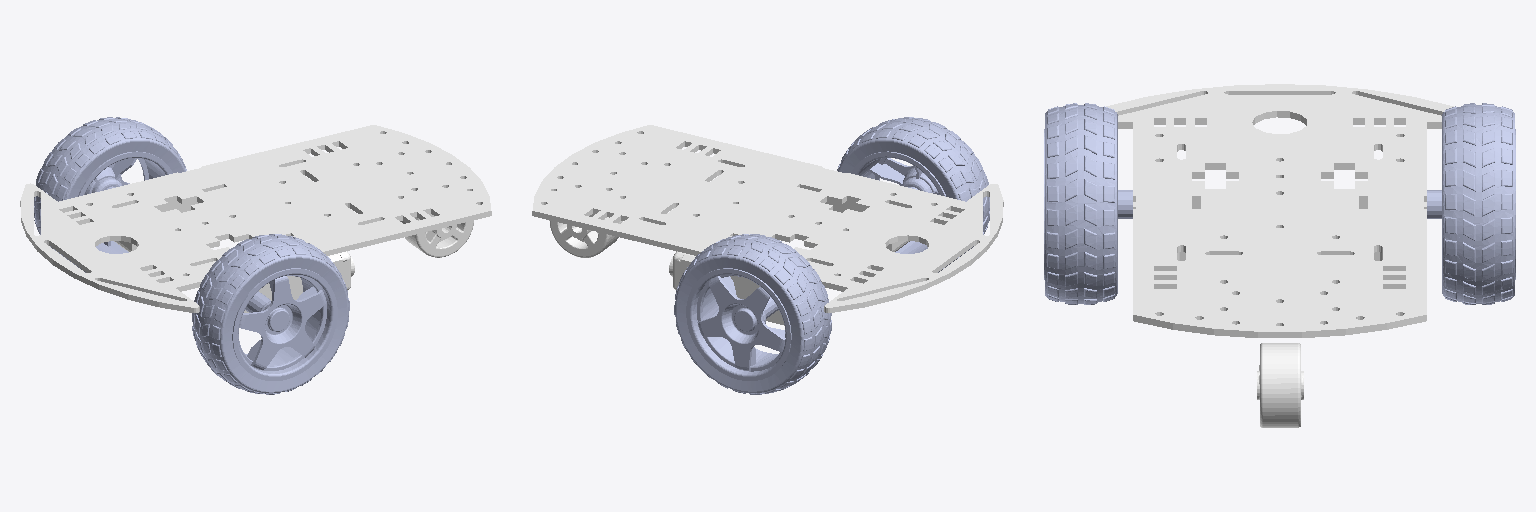
URDF robot description (mobile_robot):
<?xml version="1.0" encoding="utf-8"?>
<!-- This URDF was automatically created by SolidWorks to URDF Exporter! Originally created by [author] ([email redacted]) 
     Commit Version: 1.5.1-0-g916b5db  Build Version: 1.5.7152.31018
     For more information, please see http://wiki.ros.org/sw_urdf_exporter -->
<!--robot
  name="Seguidor_linea_robot"-->
<robot xmlns:xacro="http://www.ros.org/wiki/xacro" name="mobile_robot">
  
  <!--link name="odom_link"/>
  <joint name="odom_joint" type="fixed">
    <parent link="odom_link" />
    <child link = "base_link" />
    <origin xyz="0.0 0.0 0.0" rpy="0.0 0.0 0.0" />
  </joint-->

  <link
    name="base_link">
    <inertial>
      <origin
        xyz="0.010085 -7.8763E-06 -0.0066048"
        rpy="0 0 0" />
      <mass value="0.12" />
      <inertia
        ixx="0.0001"
        ixy="0"
        ixz="0"
        iyy="0.0003"
        iyz="0"
        izz="0.0002" />
    </inertial>
    <visual>
      <origin
        xyz="0 0 0"
        rpy="0 0 0" />
      <geometry>
        <mesh
          filename="package://modelo_robot/meshes/base_link.STL" />
      </geometry>
      <material
        name="">
        <color
          rgba="1 1 1 0.3" />
      </material>
    </visual>
    <collision>
      <origin
        xyz="0 0 0"
        rpy="0 0 0" />
      <geometry>
        <mesh
          filename="package://modelo_robot/meshes/base_link.STL" />
      </geometry>
    </collision>
  </link>

  <!--link name="world"/>
  <joint name="world_joint" type="fixed">
    <parent link="world" />
    <child link = "base_link" />
    <origin xyz="0.0 0.0 0.0" rpy="0.0 0.0 0.0" />
    package://modelo_robot/meshes/base_link.stl
  </joint-->

  <gazebo reference="base_link">
    <mu1>200</mu1>
    <mu2>200</mu2>
    <kp>1000000</kp>
    <kd>1</kd>
    <material>Gazebo/Yellow</material>
  </gazebo>

  <link
    name="Rueda_izquierda_link">
    <inertial>
      <origin
        xyz="8.9146E-10 -3.2512E-08 -0.011873"
        rpy="0 0 0" />
      <mass value="0.1403" />
      <inertia
        ixx="0.00002"
        ixy="0"
        ixz="0"
        iyy="0.00002"
        iyz="0"
        izz="0.0001" />
    </inertial>
    <visual>
      <origin
        xyz="0 0 0"
        rpy="0 0 0" />
      <geometry>
        <mesh
          filename="package://modelo_robot/meshes/Rueda_izquierda_link.STL" />
      </geometry>
      <material
        name="">
        <color
          rgba="0.79216 0.81961 0.93333 1" />
      </material>
    </visual>
    <collision>
      <origin
        xyz="0 0 0"
        rpy="0 0 0" />
      <geometry>
        <mesh
          filename="package://modelo_robot/meshes/Rueda_izquierda_link.STL" />
      </geometry>
    </collision>
  </link>
  <joint
    name="Rueda_izquierda_joint"
    type="continuous">
    <origin
      xyz="-0.033259 0.08025 -0.01375"
      rpy="-1.5708 0.042481 0" />
    <parent
      link="base_link" />
    <child
      link="Rueda_izquierda_link" />
    <axis
      xyz="0 0 1" />
    <dynamics
      damping="0.1"
      friction="0.1" />
  </joint>

 <gazebo reference="Rueda_izquierda_link">
    <mu1>200</mu1>
    <mu2>200</mu2>
    <kp>1000000</kp>
    <kd>1</kd>
    <material>Gazebo/Gray</material>
  </gazebo>


  <link
    name="Rueda_derecha_link">
    <inertial>
      <origin
        xyz="-8.9146E-10 -3.2512E-08 0.011873"
        rpy="0 0 0" />
      <mass value="0.1403" />
      <inertia
        ixx="0.00002"
        ixy="0"
        ixz="0"
        iyy="0.00002"
        iyz="0"
        izz="0.0001" />
    </inertial>
    <visual>
      <origin
        xyz="0 0 0"
        rpy="0 0 0" />
      <geometry>
        <mesh
          filename="package://modelo_robot/meshes/Rueda_derecha_link.STL" />
      </geometry>
      <material
        name="">
        <color
          rgba="0.79216 0.81961 0.93333 1" />
      </material>
    </visual>
    <collision>
      <origin
        xyz="0 0 0"
        rpy="0 0 0" />
      <geometry>
        <mesh
          filename="package://modelo_robot/meshes/Rueda_derecha_link.STL" />
      </geometry>
    </collision>
  </link>

  <gazebo reference="Rueda_derecha_link">
    <mu1>200</mu1>
    <mu2>200</mu2>
    <kp>1000000</kp>
    <kd>1</kd>
    <material>Gazebo/Gray</material>
  </gazebo>

  <joint
    name="Rueda_derecha_joint"
    type="continuous">
    <origin
      xyz="-0.033259 -0.08025 -0.01375"
      rpy="1.5708 0.042481 -3.1416" />
    <parent
      link="base_link" />
    <child
      link="Rueda_derecha_link" />
    <axis
      xyz="0 0 1" />
    <dynamics
      damping="0.1"
      friction="0.1" />
  </joint>

  <link
    name="Base_castor_link">
    <inertial>
      <origin
        xyz="0 0 0"
        rpy="0 0 0" />
      <mass
        value="0.5" />
      <inertia
        ixx="0.00004"
        ixy="0"
        ixz="0"
        iyy="0.00004"
        iyz="0"
        izz="0.00001" />
    </inertial>
    <visual>
      <origin
        xyz="0 0 0"
        rpy="0 0 0" />
      <geometry>
        <mesh
          filename="package://modelo_robot/meshes/Base_castor_link.STL" />
      </geometry>
      <material
        name="">
        <color
          rgba="1 1 1 1" />
      </material>
    </visual>
    <collision>
      <origin
        xyz="0 0 0"
        rpy="0 0 0" />
      <geometry>
        <mesh
          filename="package://modelo_robot/meshes/Base_castor_link.STL" />
      </geometry>
    </collision>
    
  </link>

  <gazebo reference="Base_castor_link">
    <mu1>0.1</mu1>
    <mu2>0.1</mu2>
    <kp>1000000</kp>
    <kd>1</kd>
    <material>Gazebo/Gray</material>
  </gazebo>

  <joint
    name="Base_castor_joint"
    type="continuous">
    <origin
      xyz="0.072581 0 -0.0025"
      rpy="-3.1408 0 0" />
    <parent
      link="base_link" />
    <child
      link="Base_castor_link" />
    <axis
      xyz="0 0 1" />
  </joint>
  <link
    name="Rueda_castor_link">
    <inertial>
      <origin
        xyz="6.93889390390723E-18 -2.62037475051713E-11 -2.77710070911708E-09"
        rpy="0 0 0" />
      <mass
        value="0.0828739992319076" />
      <inertia
        ixx="0.0004"
        ixy="0"
        ixz="0"
        iyy="0.0004"
        iyz="0"
        izz="0.00001" />
    </inertial>
    <visual>
      <origin
        xyz="0 0 0"
        rpy="0 0 0" />
      <geometry>
        <mesh
          filename="package://modelo_robot/meshes/Rueda_castor_link.STL" />
      </geometry>
      <material
        name="">
        <color
          rgba="1 1 1 1" />
      </material>
    </visual>
    <collision>
      <origin
        xyz="0 0 0"
        rpy="0 0 0" />
      <geometry>
        <mesh
          filename="package://modelo_robot/meshes/Rueda_castor_link.STL" />
      </geometry>
    </collision>
  </link>

  <gazebo reference="Rueda_castor_link">
    <mu1>0.1</mu1>
    <mu2>0.1</mu2>
    <kp>1000000</kp>
    <kd>1</kd>
    <material>Gazebo/Gray</material>
  </gazebo>

  <joint
    name="Rueda_castor_joint"
    type="continuous">
    <origin
      xyz="0.015014 -0.00012272 0.02296"
      rpy="0 -1.57 1.5708" />
    <parent
      link="Base_castor_link" />
    <child
      link="Rueda_castor_link" />
    <axis
      xyz="0 0 1" />
  </joint>

  <gazebo>
    <plugin name="two_wheeled_robot_diff_drive" filename="libgazebo_ros_diff_drive.so">
 
      <update_rate>100</update_rate>
      
      <!-- wheels -->
      <left_joint>Rueda_izquierda_joint</left_joint>
      <right_joint>Rueda_derecha_joint</right_joint>
 
      <!-- kinematics -->
      <wheel_separation>0.15</wheel_separation>
      <wheel_diameter>0.06</wheel_diameter>
 
      <!-- limits -->
      <max_wheel_torque>20</max_wheel_torque>
      <max_wheel_acceleration>20.0</max_wheel_acceleration>
 
      <!-- Receive velocity commands on this ROS topic -->
      <command_topic>cmd_vel</command_topic>
 
      <!-- output -->
      <!-- When false, publish no wheel odometry data to a ROS topic -->
      <publish_odom>true</publish_odom>
 
      <!-- When true, publish coordinate transform from odom to base_footprint -->
      <!-- I usually use the robot_localization package to publish this transform -->  
      <publish_odom_tf>true</publish_odom_tf>
     
      <!-- When true, publish coordinate transform from base_link to the wheels -->
      <!-- The robot_state_publisher package is often used to publish this transform -->  
      <publish_wheel_tf>true</publish_wheel_tf>
 
      <odometry_topic>odom</odometry_topic>
      <odometry_frame>odom_link</odometry_frame>
      <robot_base_frame>base_link</robot_base_frame>
 
      <odometry_source>1</odometry_source>
      <ros>
        <remapping>odom:=wheel/odometry</remapping>
      </ros>
    </plugin>
  </gazebo>

  <gazebo>
    <plugin name="gazebo_ros_joint_state_publisher"
        filename="libgazebo_ros_joint_state_publisher.so">
        <update_rate>100</update_rate>
        <joint_name>Base_castor_joint</joint_name>
        <joint_name>Rueda_castor_joint</joint_name>
    </plugin>
  </gazebo>

</robot>

--- Facts derived from the render (not from the file) ---
Views: 3 orthographic renders of the robot side by side, from view 1: azimuth 30°, elevation 25°; view 2: azimuth 150°, elevation 25°; view 3: azimuth 270°, elevation 25°.
Robot: mobile_robot — 5 links, 4 joints (4 continuous); root link base_link; default pose: all joints at 0.
Links seen in each view (by area): view 1: base_link, Rueda_derecha_link, Rueda_izquierda_link, Rueda_castor_link; view 2: base_link, Rueda_izquierda_link, Rueda_derecha_link, Rueda_castor_link; view 3: base_link, Rueda_izquierda_link, Rueda_derecha_link, Rueda_castor_link.
Link boxes in pixels (<box>): base_link: <box>20,125,491,312</box>; Rueda_derecha_link: <box>192,234,349,394</box>; Rueda_izquierda_link: <box>34,117,186,272</box>; Rueda_castor_link: <box>400,214,473,257</box>; base_link: <box>532,125,1003,325</box>; Rueda_izquierda_link: <box>674,234,831,394</box>; Rueda_derecha_link: <box>837,117,989,272</box>; Rueda_castor_link: <box>549,214,622,257</box>; base_link: <box>1106,84,1453,337</box>; Rueda_izquierda_link: <box>1427,103,1515,304</box>; Rueda_derecha_link: <box>1044,103,1132,304</box>; Rueda_castor_link: <box>1257,343,1303,427</box>.
Bounding box of the posed robot: 0.2029 × 0.1605 × 0.0689 m (x, y, z).
Meshes: 5 distinct files referenced, 4 mesh visuals loaded (4 binary STL); not drawn: 1 (reference not matched to a file when rendering).